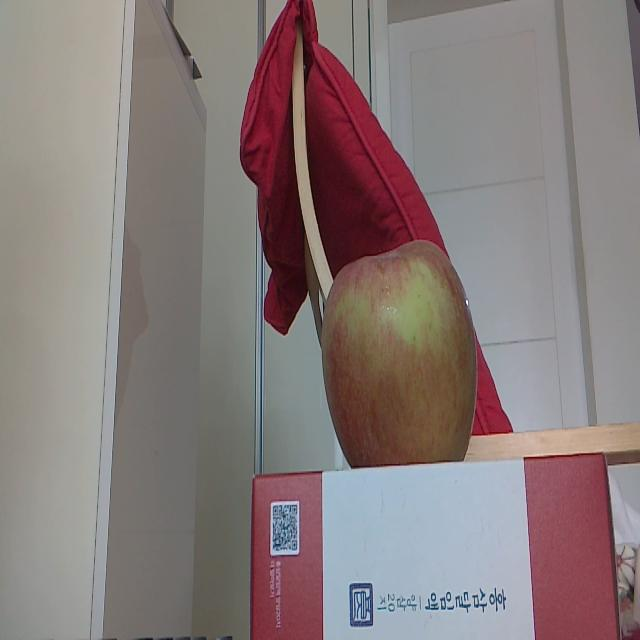apple: (322, 243, 477, 463)
